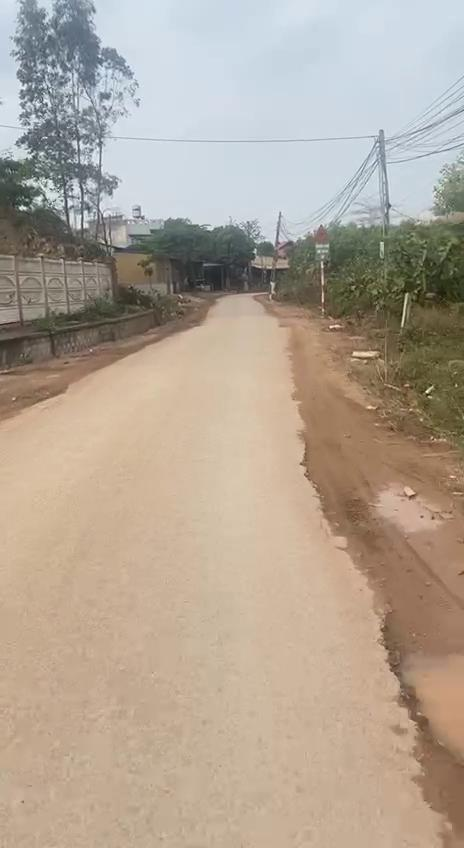pothole: (372, 606, 464, 782)
